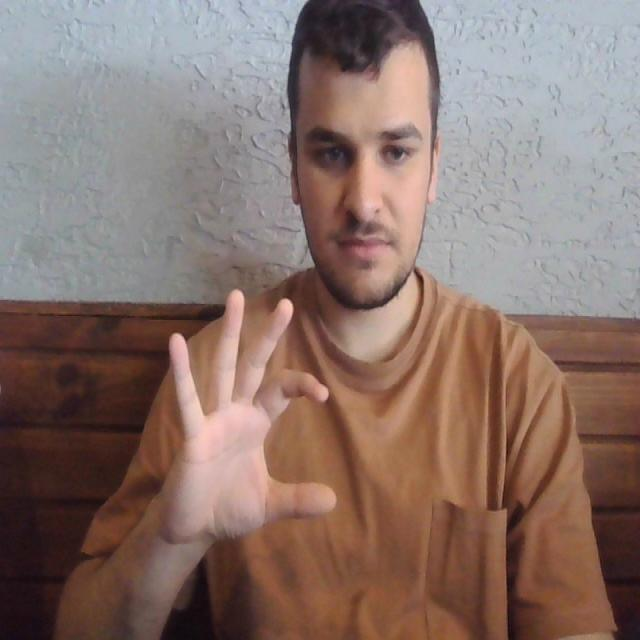Tuvalet: (152, 278, 366, 566)
